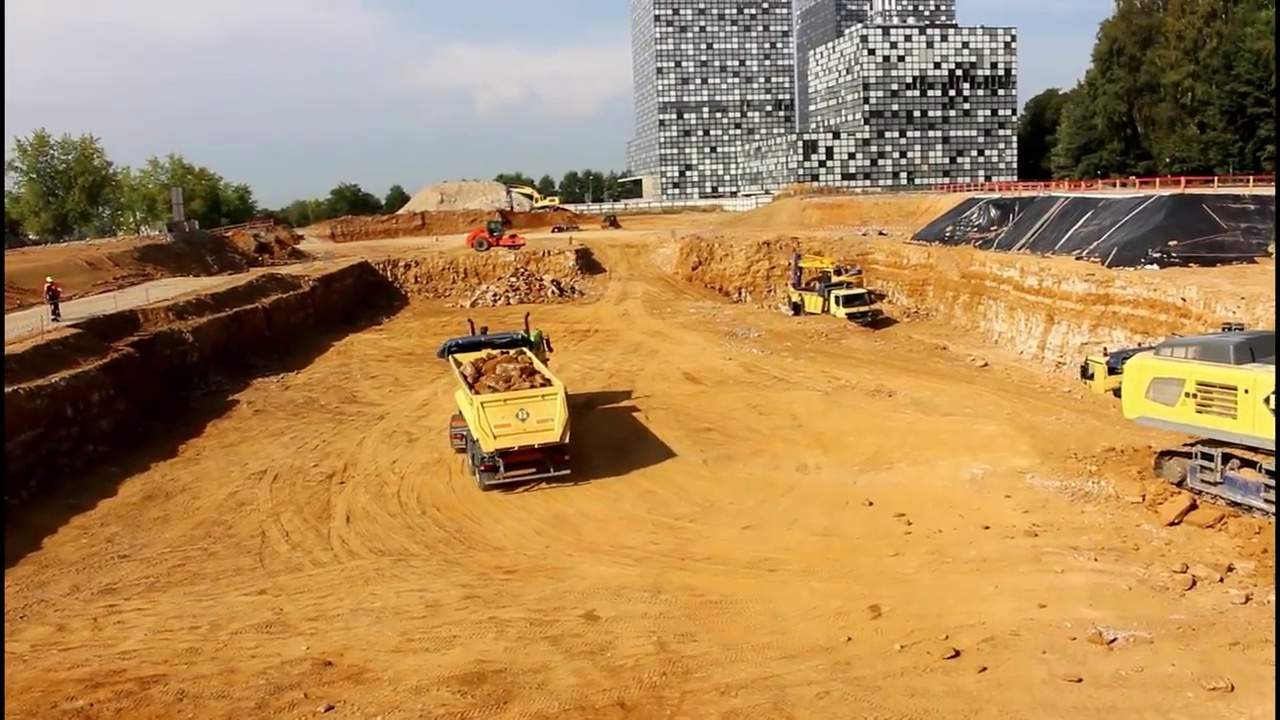compactor: (464, 217, 529, 254)
excavator: (1120, 319, 1280, 519), (786, 245, 869, 310), (500, 178, 567, 219)
truck: (436, 310, 579, 498), (1077, 347, 1268, 454), (792, 282, 878, 338)
worker: (44, 272, 67, 326)
